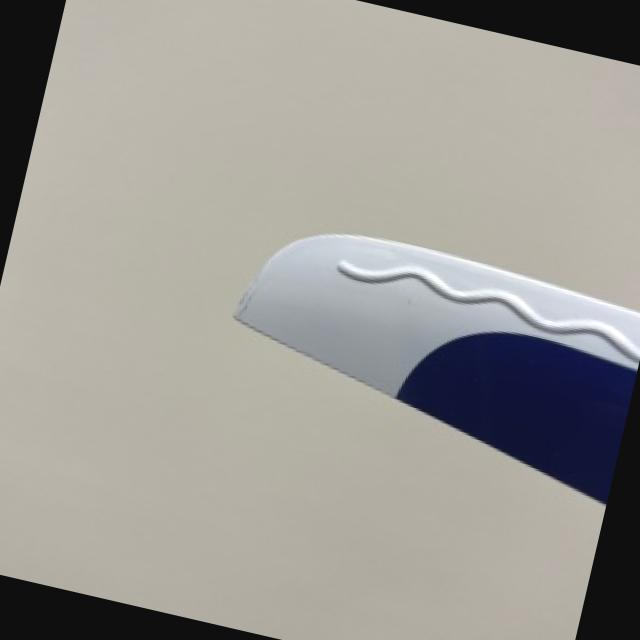healthy: (238, 232, 640, 502)
